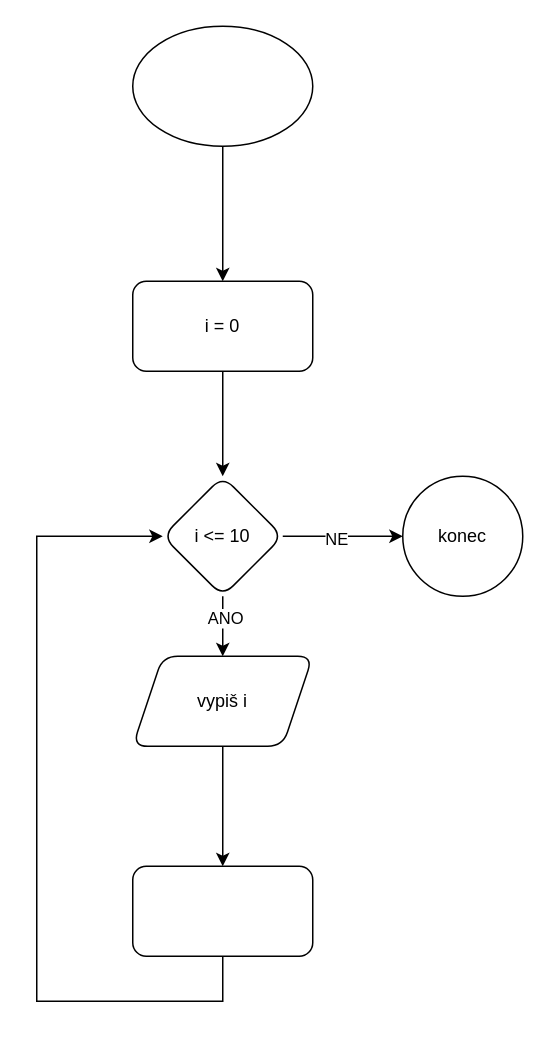
The diagram is 549 pixels wide and 1040 high, and some of its shapes have lost their labels. Each missing label, with the centre of its shape:
i = i + 1: [222,910]
start: [222,85]
